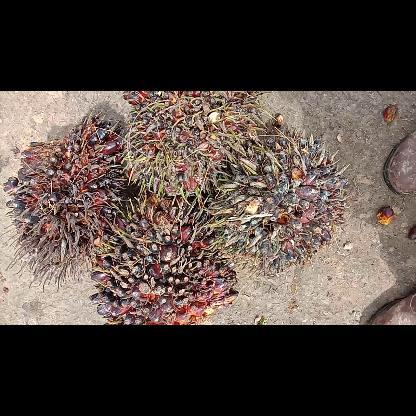TBS abnormal: (210, 126, 348, 272), (8, 116, 132, 274), (88, 220, 240, 324), (120, 91, 260, 201)
